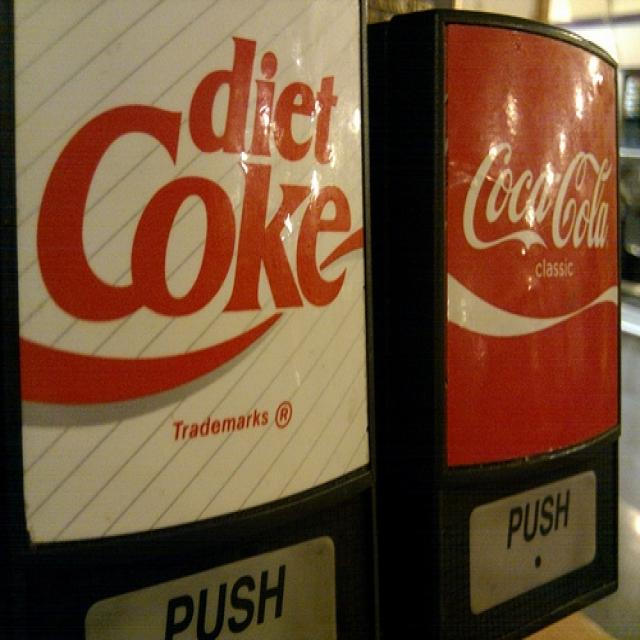cocacola: (457, 131, 617, 259)
